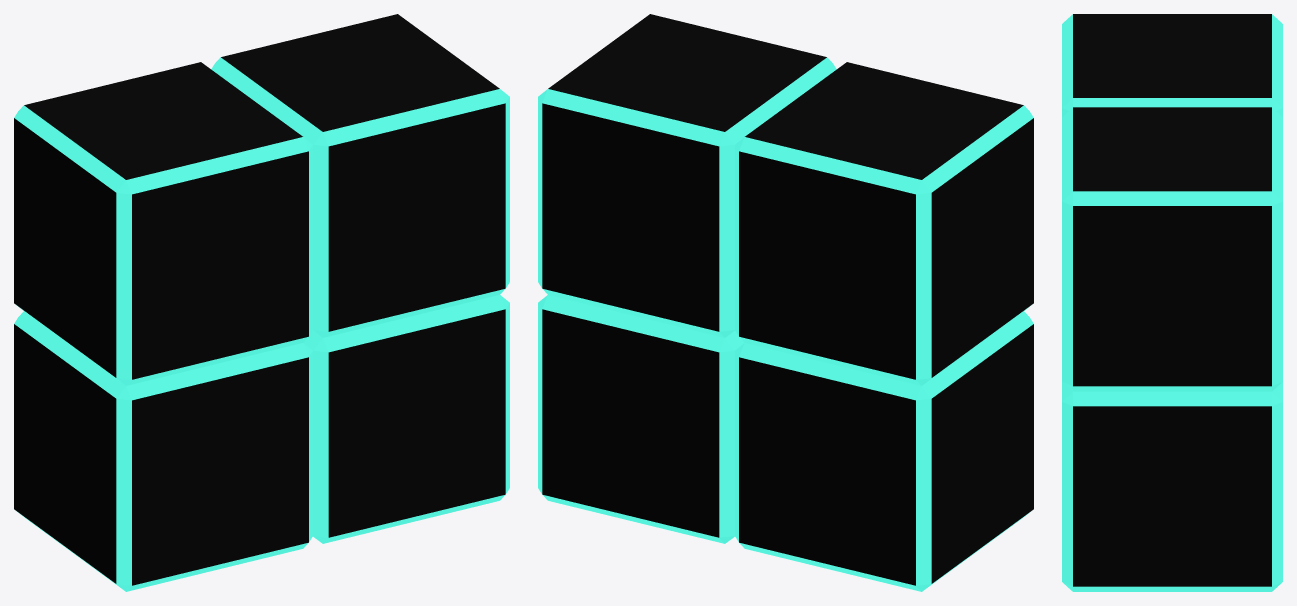
The model's file is bricks-2.glb.
The picture shows the model from 3 angles, left to right: view 1: azimuth 30°, elevation 25°; view 2: azimuth 150°, elevation 25°; view 3: azimuth 270°, elevation 25°; orthographic projection. The views are drawn at different scales.
Parts seen in each view (by area): view 1: brick-2; view 2: brick-2; view 3: brick-2.
Boxes of the visible parts, x1=… form: brick-2: x1=14, y1=14, x2=509, y2=591; brick-2: x1=538, y1=14, x2=1033, y2=591; brick-2: x1=1062, y1=14, x2=1282, y2=591.
Size of what is drawn, in the model's own units: 4 by 4 by 2.
